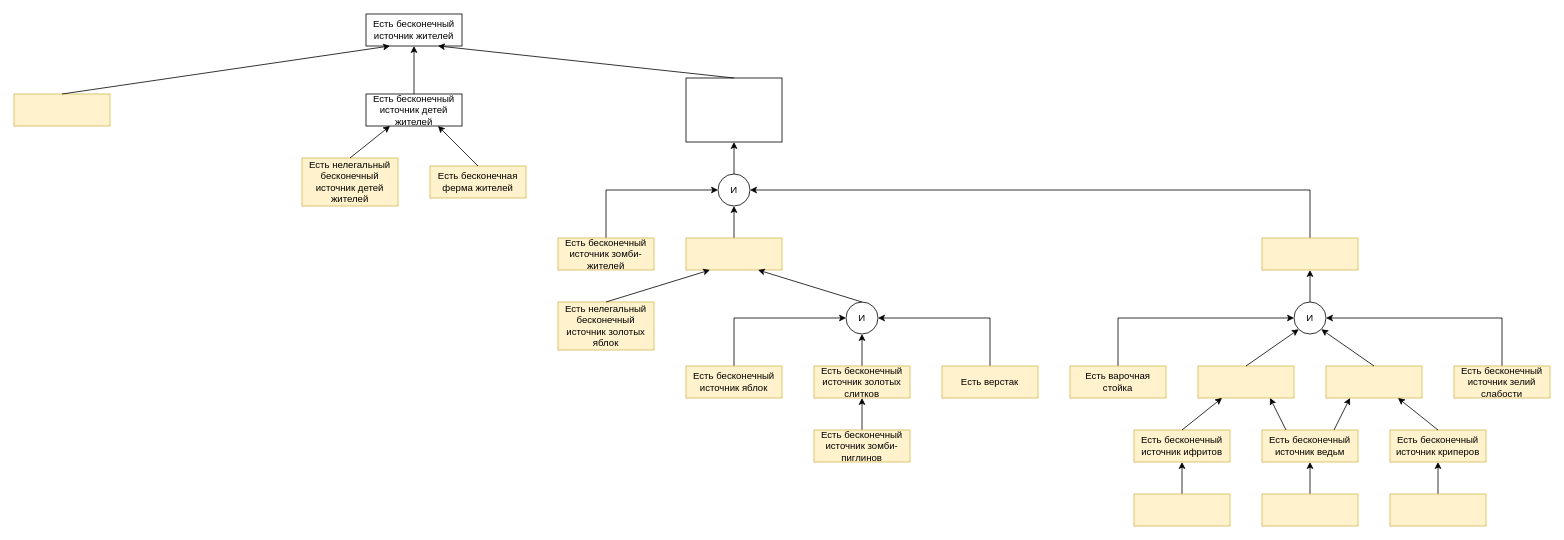
Some shapes in this 1564 by 540 pixel diagram are drawn without their labels. The centre of each missing label's shape, as x and y in pixels:
Есть бесконечный источник взрывных зелий слабости: the point at 1309,253
Есть бесконечный источник вылеченных жителей: the point at 733,109
Есть бесконечный источник золотых яблок: the point at 733,253
Есть бесконечный источник огненного порошка: the point at 1245,381
Есть бесконечный источник пороха: the point at 1373,381
Есть нелегальный бесконечный источник жителей: the point at 61,109
Есть рабочая зона появления ведьм: the point at 1309,509
Есть рабочая зона появления криперов: the point at 1437,509
Есть рассадник ифритов: the point at 1181,509
